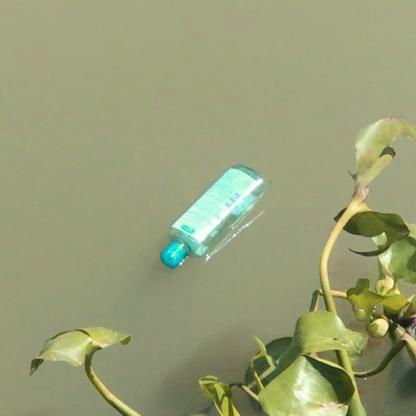Glass: (159, 158, 268, 271)
